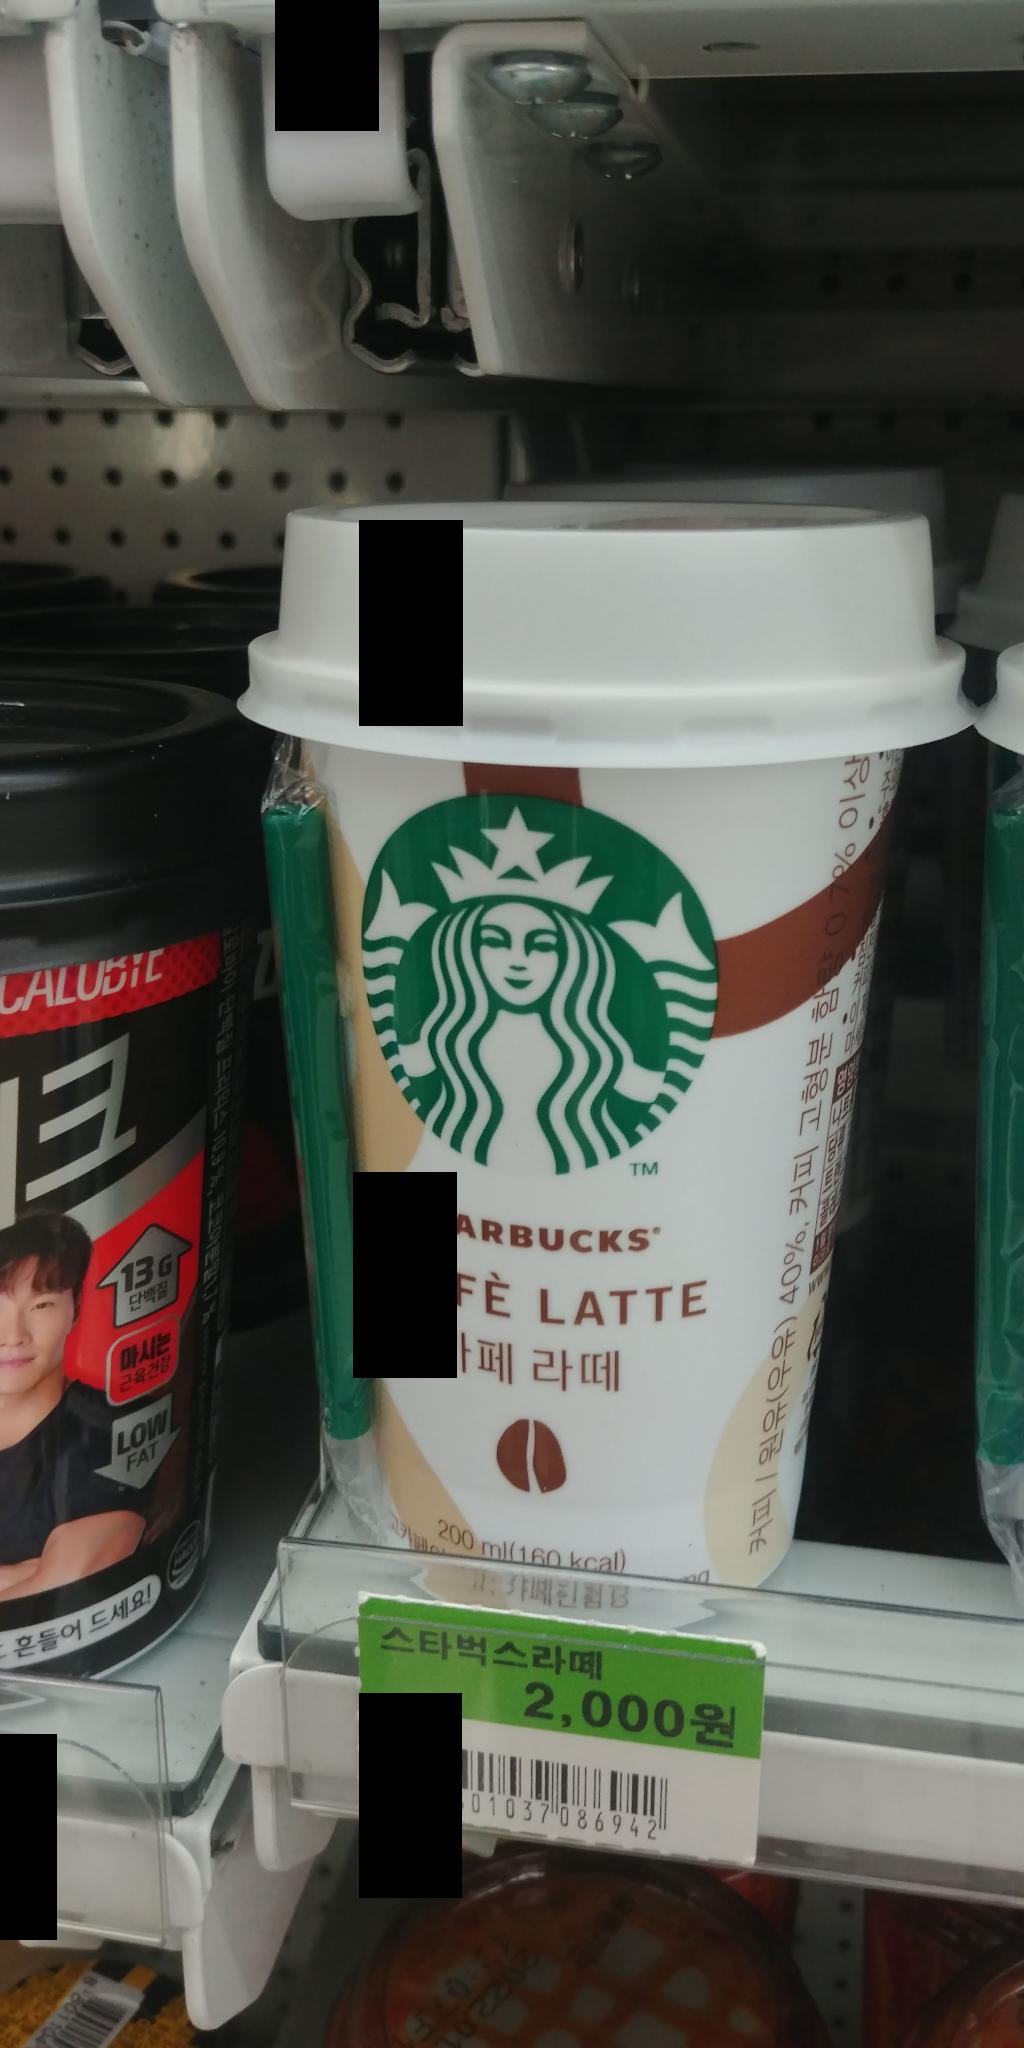starbucks_cafelatte: (235, 455, 980, 1640)
